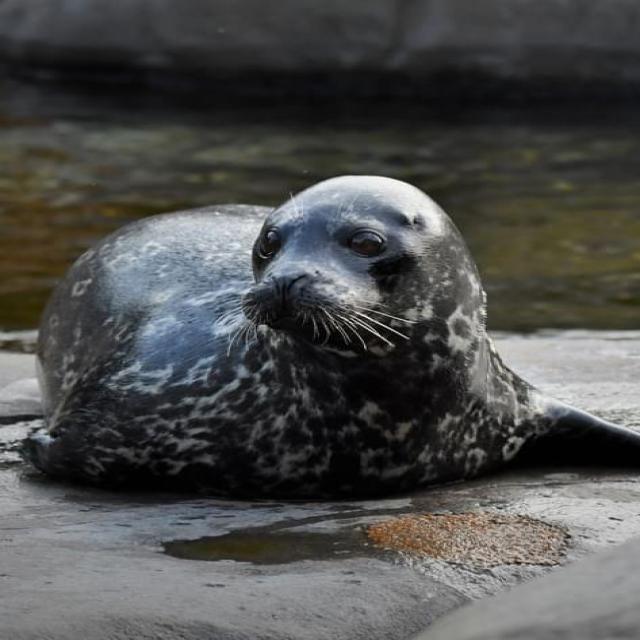WaterDog: (23, 157, 615, 515)
